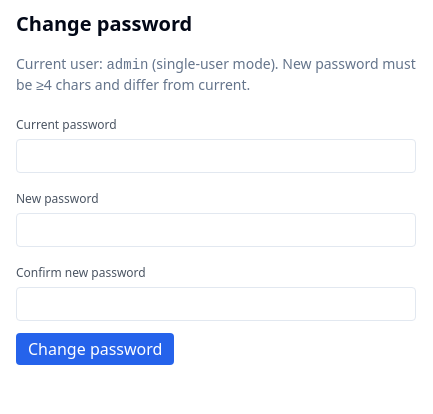
it: AdminChangePasswordPage › rejects when new == current
The image size is (433, 414).
Type "admin" into the password field with test id "cp-current".
click(216, 156); type("admin")  # box [16,139,416,173]
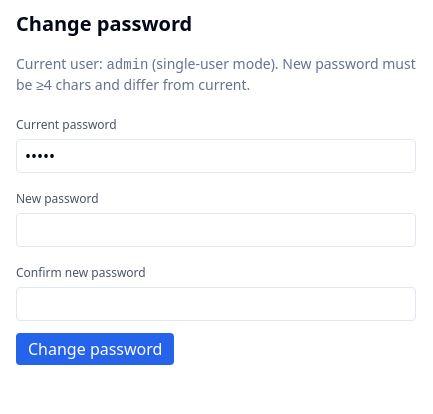
Type "admin" into the password field with test id "cp-new".
click(216, 230); type("admin")  # box [16,213,416,247]
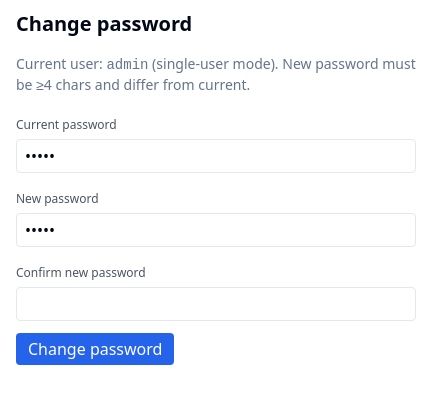
Type "admin" into the password field with test id "cp-confirm".
click(216, 304); type("admin")  # box [16,287,416,321]
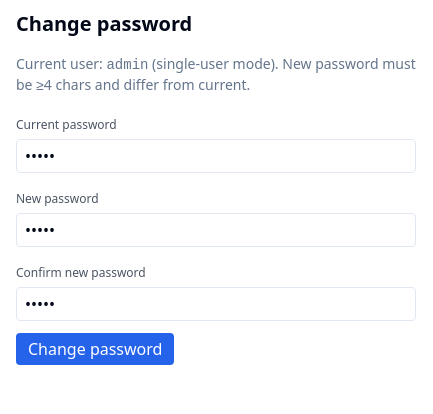
Click the button with test id "cp-submit".
click(95, 349)  # box [16,333,174,365]
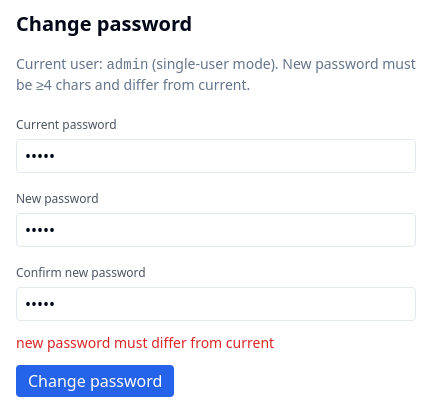
Now the text with test id "cp-error" shows "differ", box [16,333,274,352]
